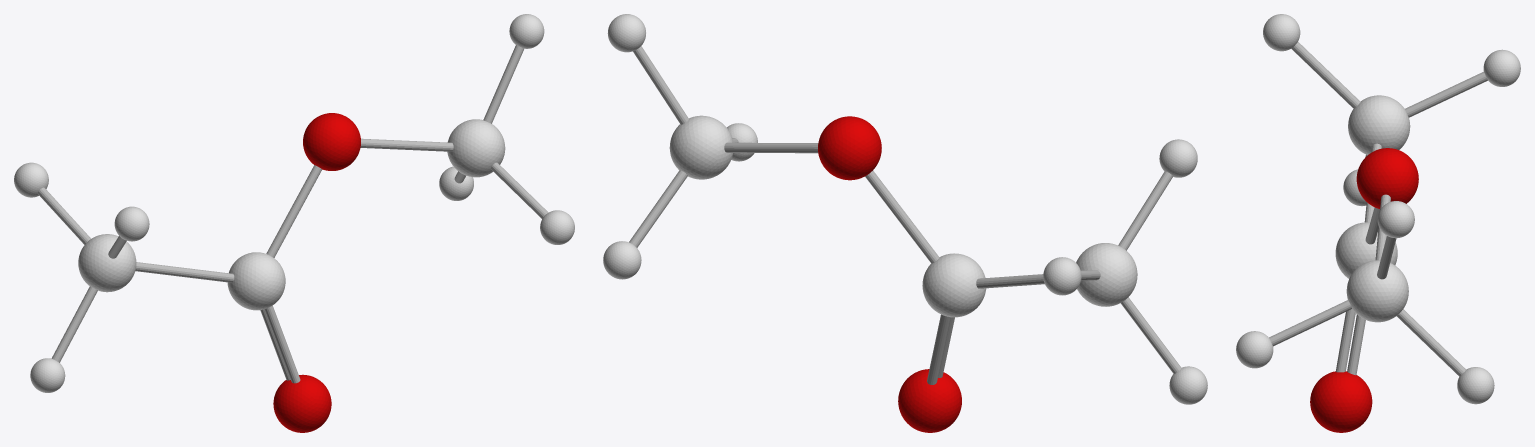
3 views of the same model, side by side, from view 1: azimuth 30°, elevation 25°; view 2: azimuth 150°, elevation 25°; view 3: azimuth 270°, elevation 25° (orthographic). The views are drawn at different scales.
Parts seen in each view (by area): view 1: world; view 2: world; view 3: world.
Boxes of the visible parts, bbox=[...] form: world: bbox=[14, 14, 574, 432]; world: bbox=[603, 14, 1207, 432]; world: bbox=[1236, 14, 1520, 432].
Bounding box in the file's own units: 5.21 × 3.17 × 2.29.
